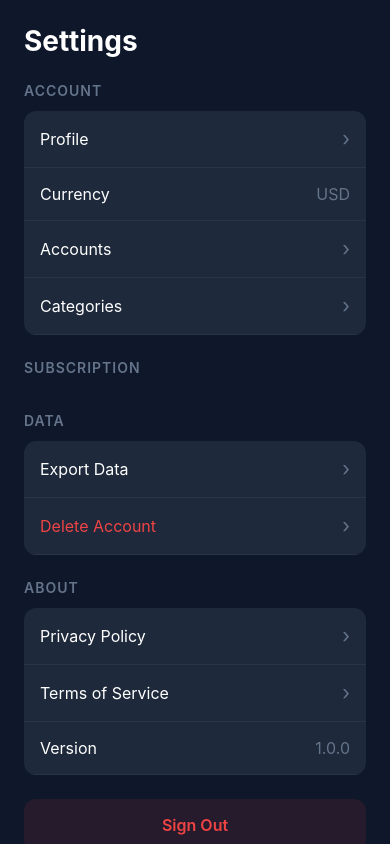
Test: SettingsScreen › Export Data › opens export modal when Export Data is pressed
Click the element with test id "settings.exportDataButton": coordinates (195, 470) [24,441,366,498]
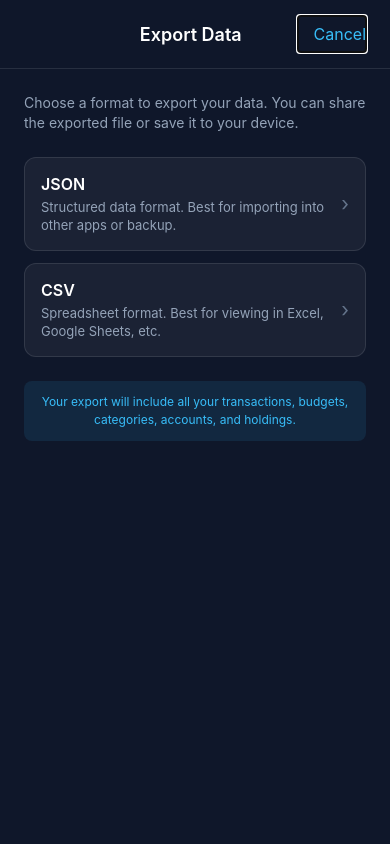
Check: the element with test id "export-format-modal" is shown
